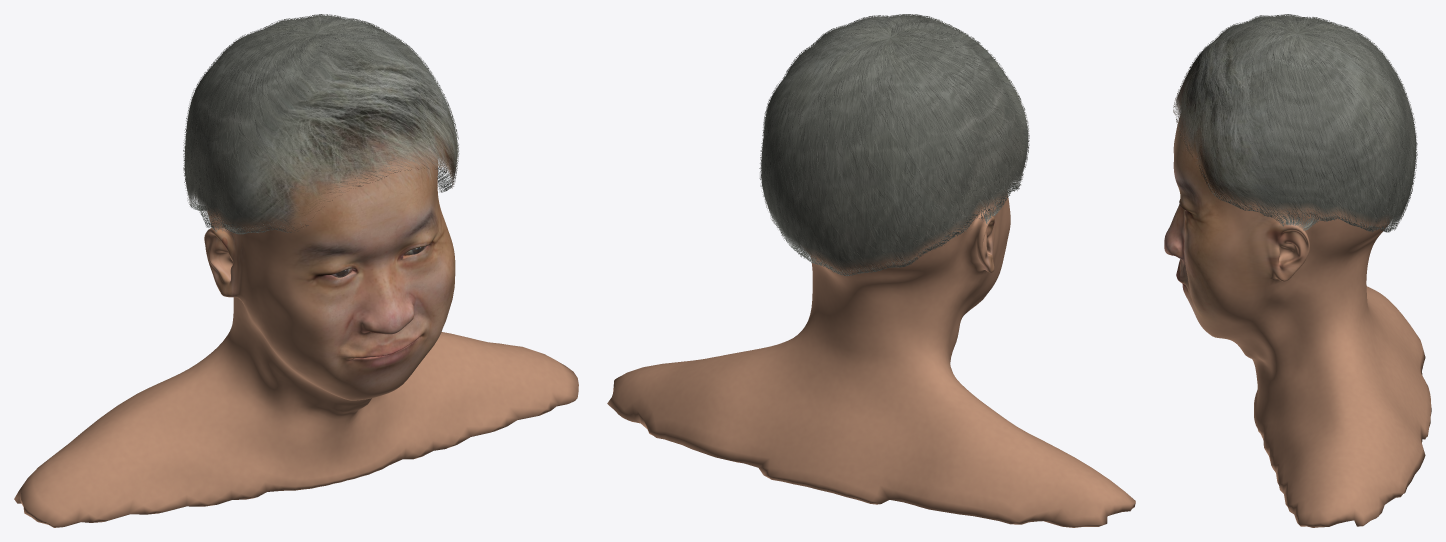
File: director_wu.glb
3 renders of one model, left to right at view 1: azimuth 30°, elevation 25°; view 2: azimuth 150°, elevation 25°; view 3: azimuth 270°, elevation 25°, orthographic. The views are drawn at different scales.
Parts seen in each view (by area): view 1: anatomy_head_and_neck, detail_hair_foundation, detail_short_silver_groom; view 2: anatomy_head_and_neck, detail_hair_foundation, detail_short_silver_groom; view 3: anatomy_head_and_neck, detail_hair_foundation, detail_short_silver_groom.
Boxes of the visible parts, <box> form: anatomy_head_and_neck: <box>14,154,578,527</box>; detail_hair_foundation: <box>184,15,457,229</box>; detail_short_silver_groom: <box>183,14,459,234</box>; anatomy_head_and_neck: <box>607,193,1135,527</box>; detail_hair_foundation: <box>761,15,1028,271</box>; detail_short_silver_groom: <box>759,14,1029,275</box>; anatomy_head_and_neck: <box>1164,115,1431,527</box>; detail_hair_foundation: <box>1175,15,1416,227</box>; detail_short_silver_groom: <box>1173,14,1417,232</box>.
Size of the model in its own units: 1 by 0.763 by 0.4791.
5 materials, 3 textured.
